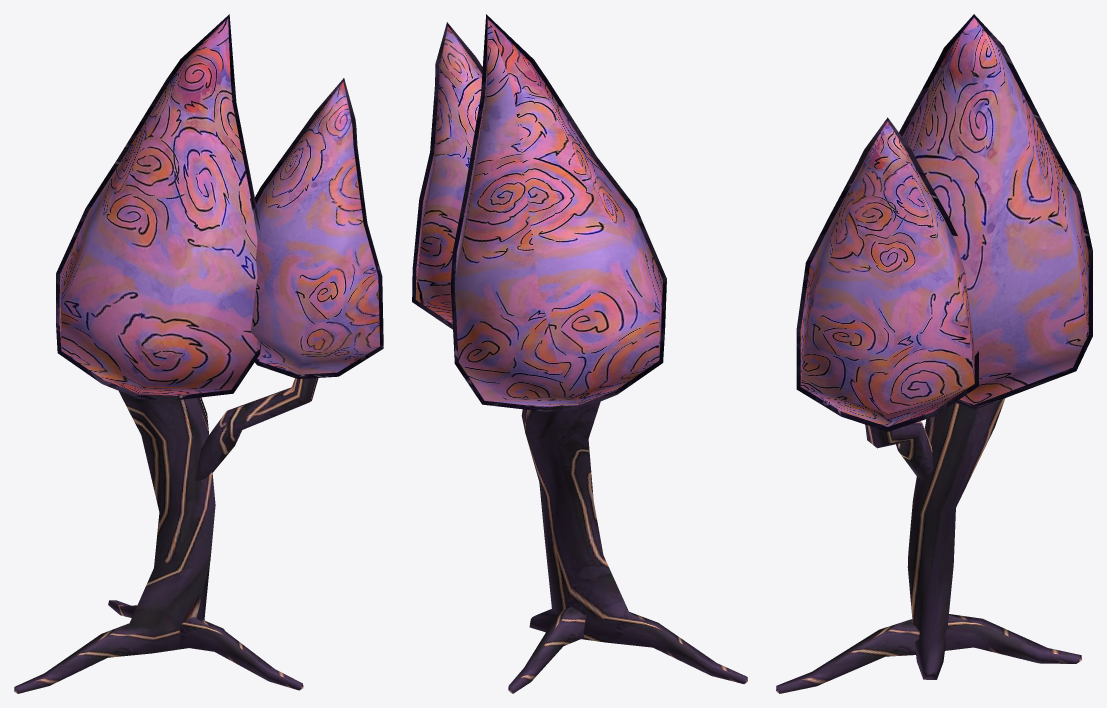
File: tree-04-art.glb
3 renders of one model, left to right at view 1: azimuth 30°, elevation 25°; view 2: azimuth 150°, elevation 25°; view 3: azimuth 270°, elevation 25°, orthographic. The views are drawn at different scales.
Visible parts, largest first — view 1: Tree_04_Art; view 2: Tree_04_Art; view 3: Tree_04_Art.
Part boxes in pixels (x1=…): Tree_04_Art: x1=14, y1=14, x2=383, y2=693; Tree_04_Art: x1=412, y1=14, x2=747, y2=693; Tree_04_Art: x1=776, y1=14, x2=1092, y2=693.
Size of what is drawn, in the model's own units: 8.57 by 14.52 by 6.07.
Materials: 3 (3 with a texture image).
